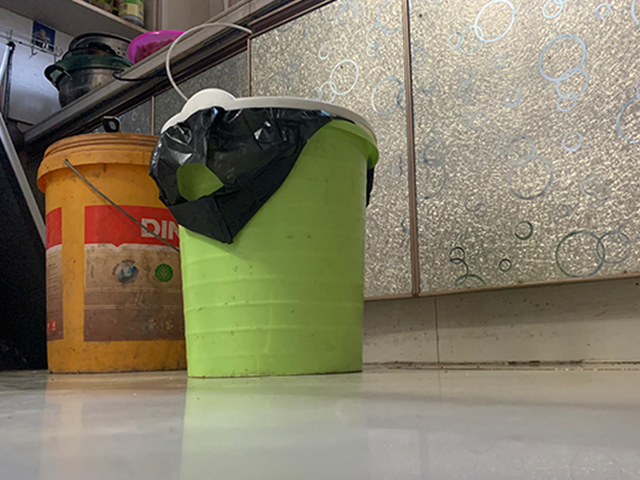cabinet: (361, 1, 640, 367)
trashcan: (160, 87, 381, 379)
